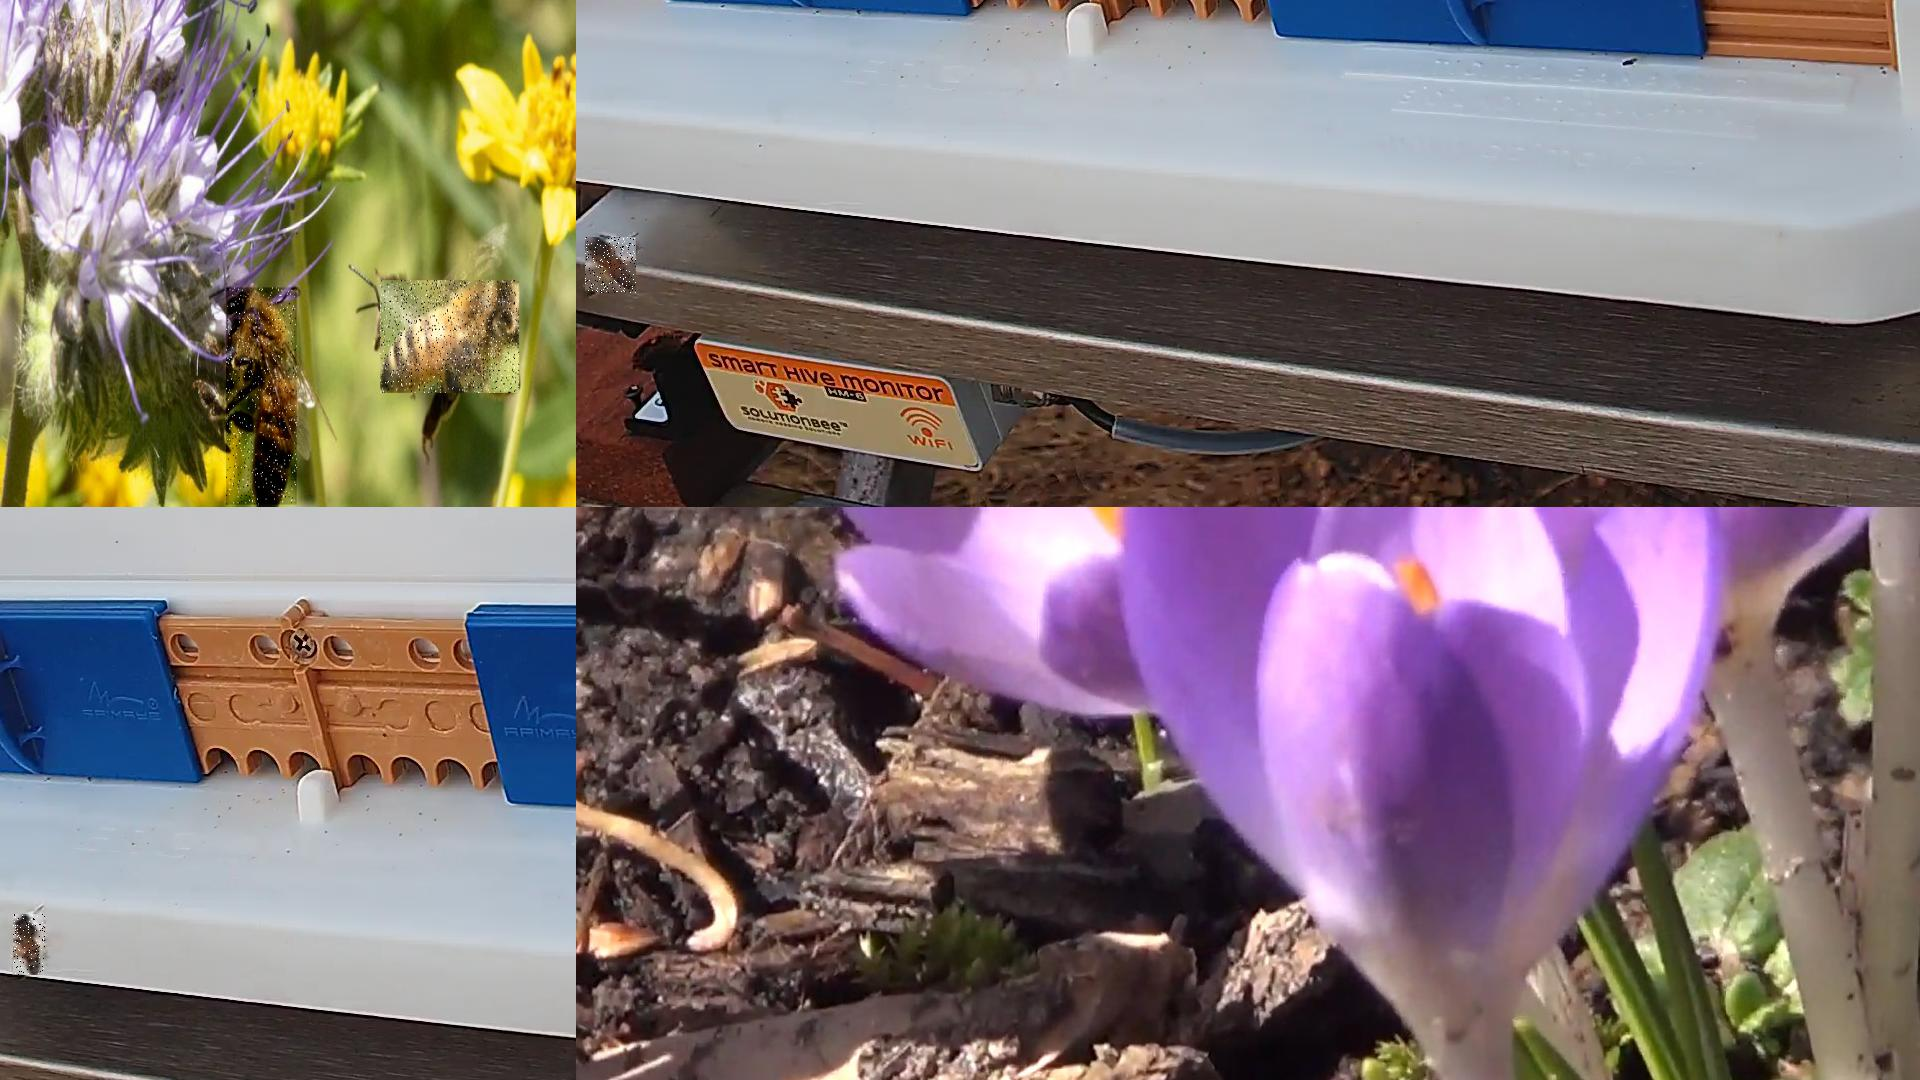bee: (380, 280, 520, 394), (225, 287, 297, 506)
pollenbee: (585, 237, 637, 294), (15, 914, 47, 976)
